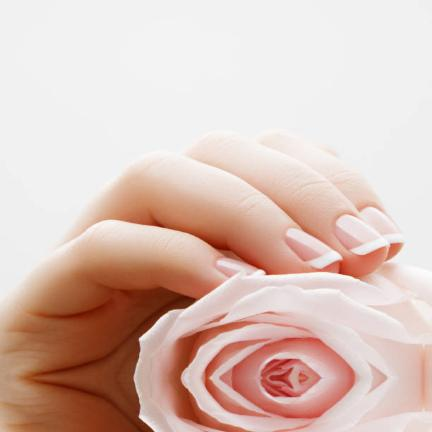Nail: (285, 228, 344, 269), (335, 214, 390, 256), (360, 206, 407, 244), (216, 257, 260, 277)
